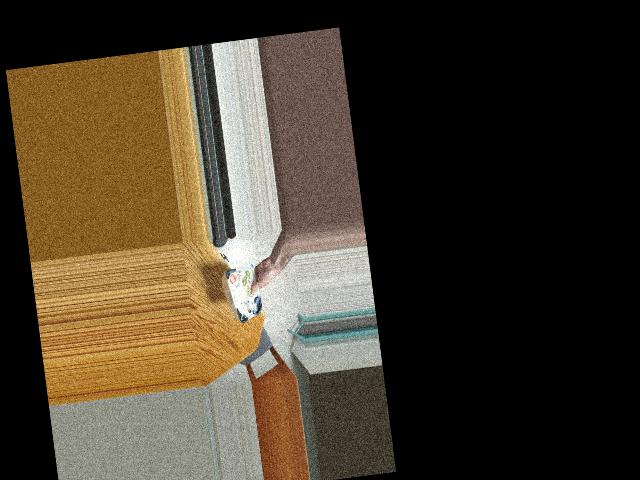cheese: (223, 265, 269, 321)
